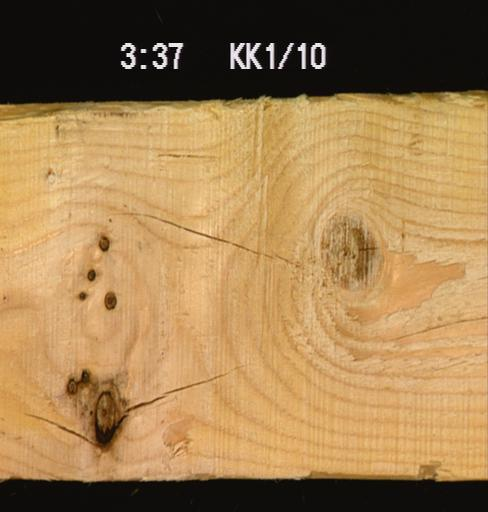dry_knot: (102, 290, 117, 310), (97, 234, 110, 251)
small_knot: (85, 267, 96, 281), (76, 289, 87, 301)
sound_knot: (318, 216, 375, 290)
split: (115, 209, 302, 268), (122, 360, 252, 419), (381, 305, 487, 345), (17, 407, 102, 453), (152, 149, 235, 161)
wave: (0, 101, 181, 130), (301, 452, 448, 478), (166, 461, 253, 479)
